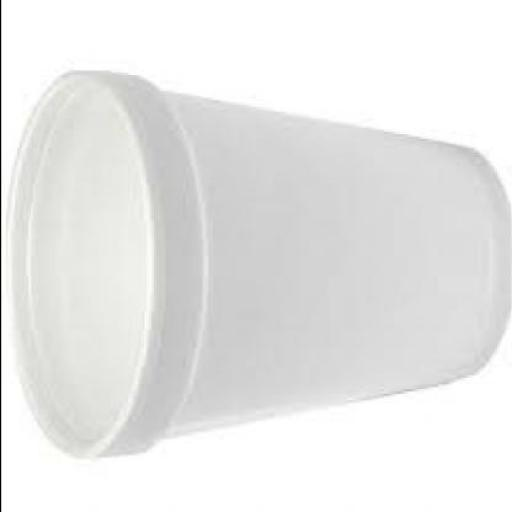paper: (5, 75, 509, 464)
